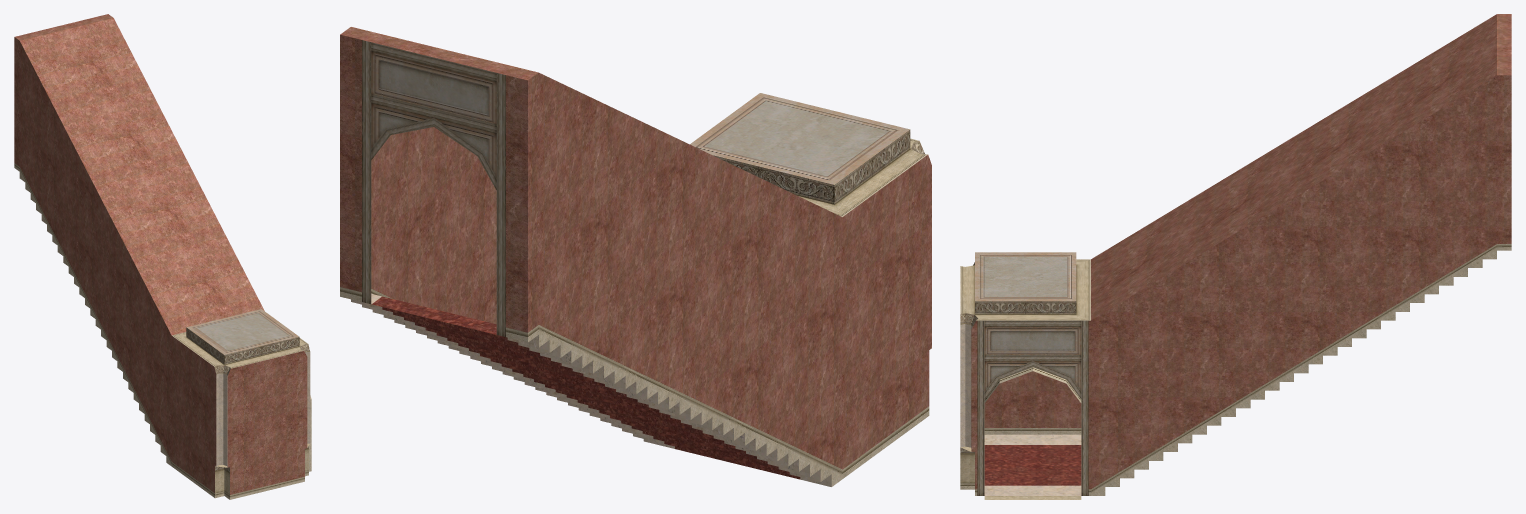
The model's file is ply_nboo_house_lg_s01_fp1_r7_stairs1_mesh_r7.fbx.
3 views of the same model, side by side, from view 1: azimuth 30°, elevation 25°; view 2: azimuth 150°, elevation 25°; view 3: azimuth 270°, elevation 25° (orthographic). The views are drawn at different scales.
Parts seen in each view (by area): view 1: mesh_node; view 2: mesh_node; view 3: mesh_node.
Part boxes in pixels (bbox=[...]): mesh_node: bbox=[14, 14, 311, 499]; mesh_node: bbox=[340, 27, 931, 486]; mesh_node: bbox=[960, 14, 1511, 499].
Size of the model in its own units: 3.2 by 9.6 by 11.4.
